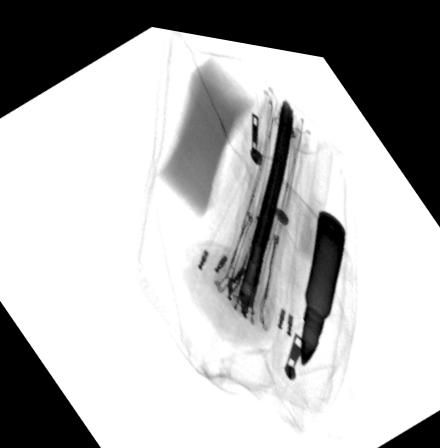Bullet: (299, 197, 348, 355)
